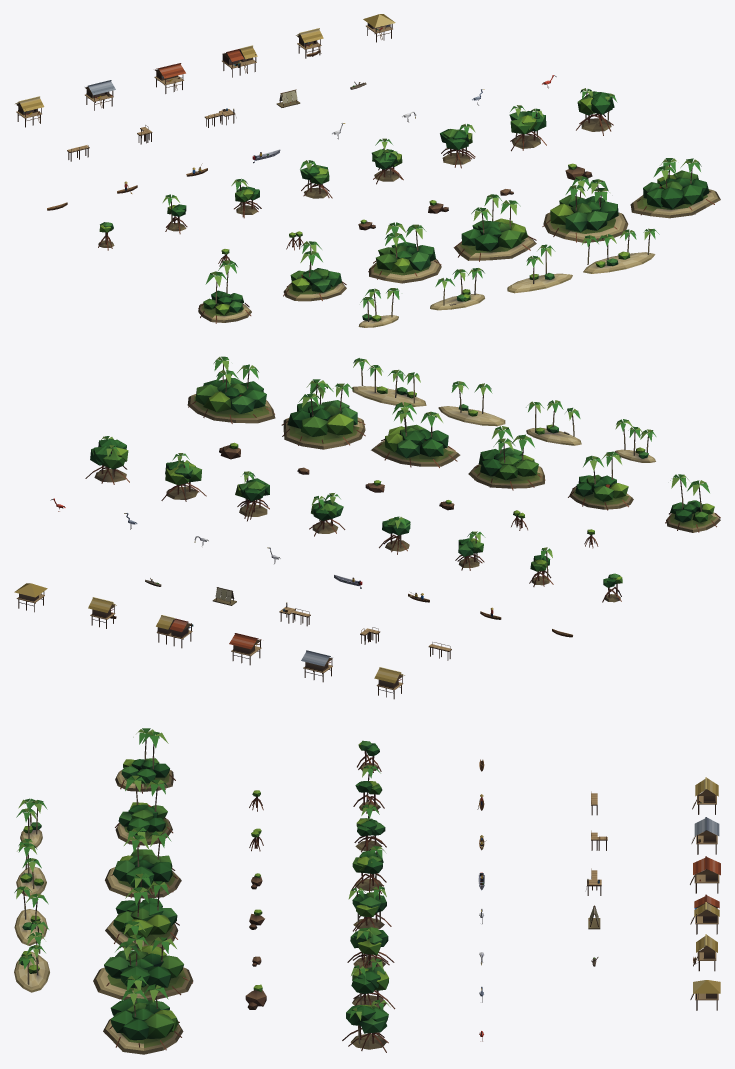
Rendered from delta_kit.glb.
3 renders of one model, top to bottom at view 1: azimuth 30°, elevation 25°; view 2: azimuth 150°, elevation 25°; view 3: azimuth 270°, elevation 25°, orthographic. The views are drawn at different scales.
Parts seen in each view (by area): view 1: isla_manglar_05, isla_manglar_06, isla_manglar_04, isla_manglar_03, isla_manglar_02, isla_manglar_01, banco_arena_04, mangle_clump_08, mangle_clump_07, banco_arena_03, mangle_clump_06, banco_arena_02 (+10 smaller); view 2: isla_manglar_05, isla_manglar_06, isla_manglar_04, isla_manglar_03, isla_manglar_02, isla_manglar_01, banco_arena_04, mangle_clump_08, mangle_clump_07, banco_arena_03, mangle_clump_06, banco_arena_02 (+9 smaller); view 3: isla_manglar_05, isla_manglar_06, isla_manglar_04, isla_manglar_03, isla_manglar_02, isla_manglar_01, mangle_clump_08, banco_arena_04, mangle_clump_07, mangle_clump_05, mangle_clump_06, mangle_clump_04 (+11 smaller).
Boxes of the visible parts, x1,y1,x2,y2 form: isla_manglar_05: [542, 176, 628, 243]; isla_manglar_06: [630, 158, 720, 218]; isla_manglar_04: [453, 194, 536, 261]; isla_manglar_03: [368, 222, 441, 283]; isla_manglar_02: [283, 241, 346, 301]; isla_manglar_01: [198, 260, 251, 323]; banco_arena_04: [582, 228, 659, 273]; mangle_clump_08: [576, 88, 617, 135]; mangle_clump_07: [509, 105, 546, 151]; banco_arena_03: [507, 244, 572, 293]; mangle_clump_06: [440, 124, 475, 168]; banco_arena_02: [430, 268, 484, 310]; isla_manglar_05: [281, 379, 365, 449]; isla_manglar_06: [187, 356, 275, 423]; isla_manglar_04: [371, 402, 460, 467]; isla_manglar_03: [468, 426, 545, 490]; isla_manglar_02: [568, 451, 633, 510]; isla_manglar_01: [665, 474, 720, 532]; banco_arena_04: [352, 358, 426, 406]; mangle_clump_08: [85, 436, 129, 484]; mangle_clump_07: [161, 453, 206, 501]; banco_arena_03: [438, 381, 505, 426]; mangle_clump_06: [235, 471, 269, 521]; banco_arena_02: [526, 400, 581, 445]; isla_manglar_05: [93, 920, 193, 1000]; isla_manglar_06: [103, 975, 183, 1054]; isla_manglar_04: [105, 873, 179, 950]; isla_manglar_03: [105, 827, 181, 898]; isla_manglar_02: [115, 775, 173, 847]; isla_manglar_01: [115, 728, 175, 793]; mangle_clump_08: [342, 999, 390, 1052]; banco_arena_04: [14, 921, 49, 992]; mangle_clump_07: [351, 958, 395, 1009]; mangle_clump_05: [348, 886, 391, 931]; mangle_clump_06: [347, 927, 394, 968]; mangle_clump_04: [351, 846, 386, 893].
Bounding box in the file's own units: 209 × 17.73 × 214.
